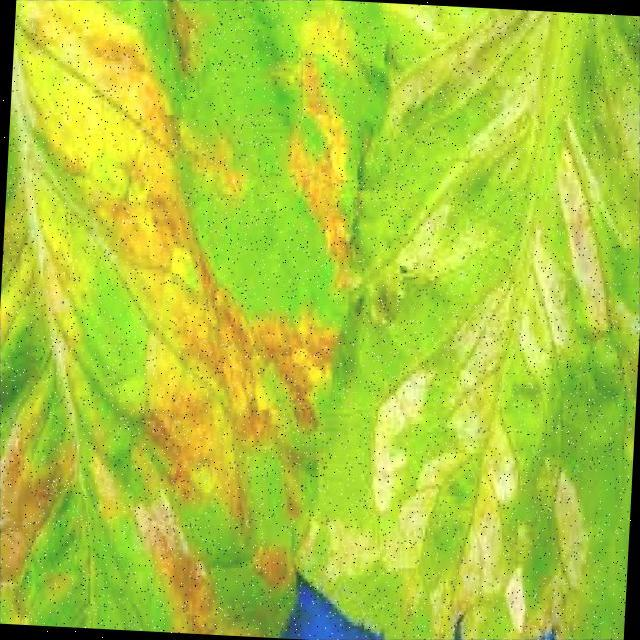Downy_Mildew: (0, 7, 319, 619), (354, 3, 640, 604)
